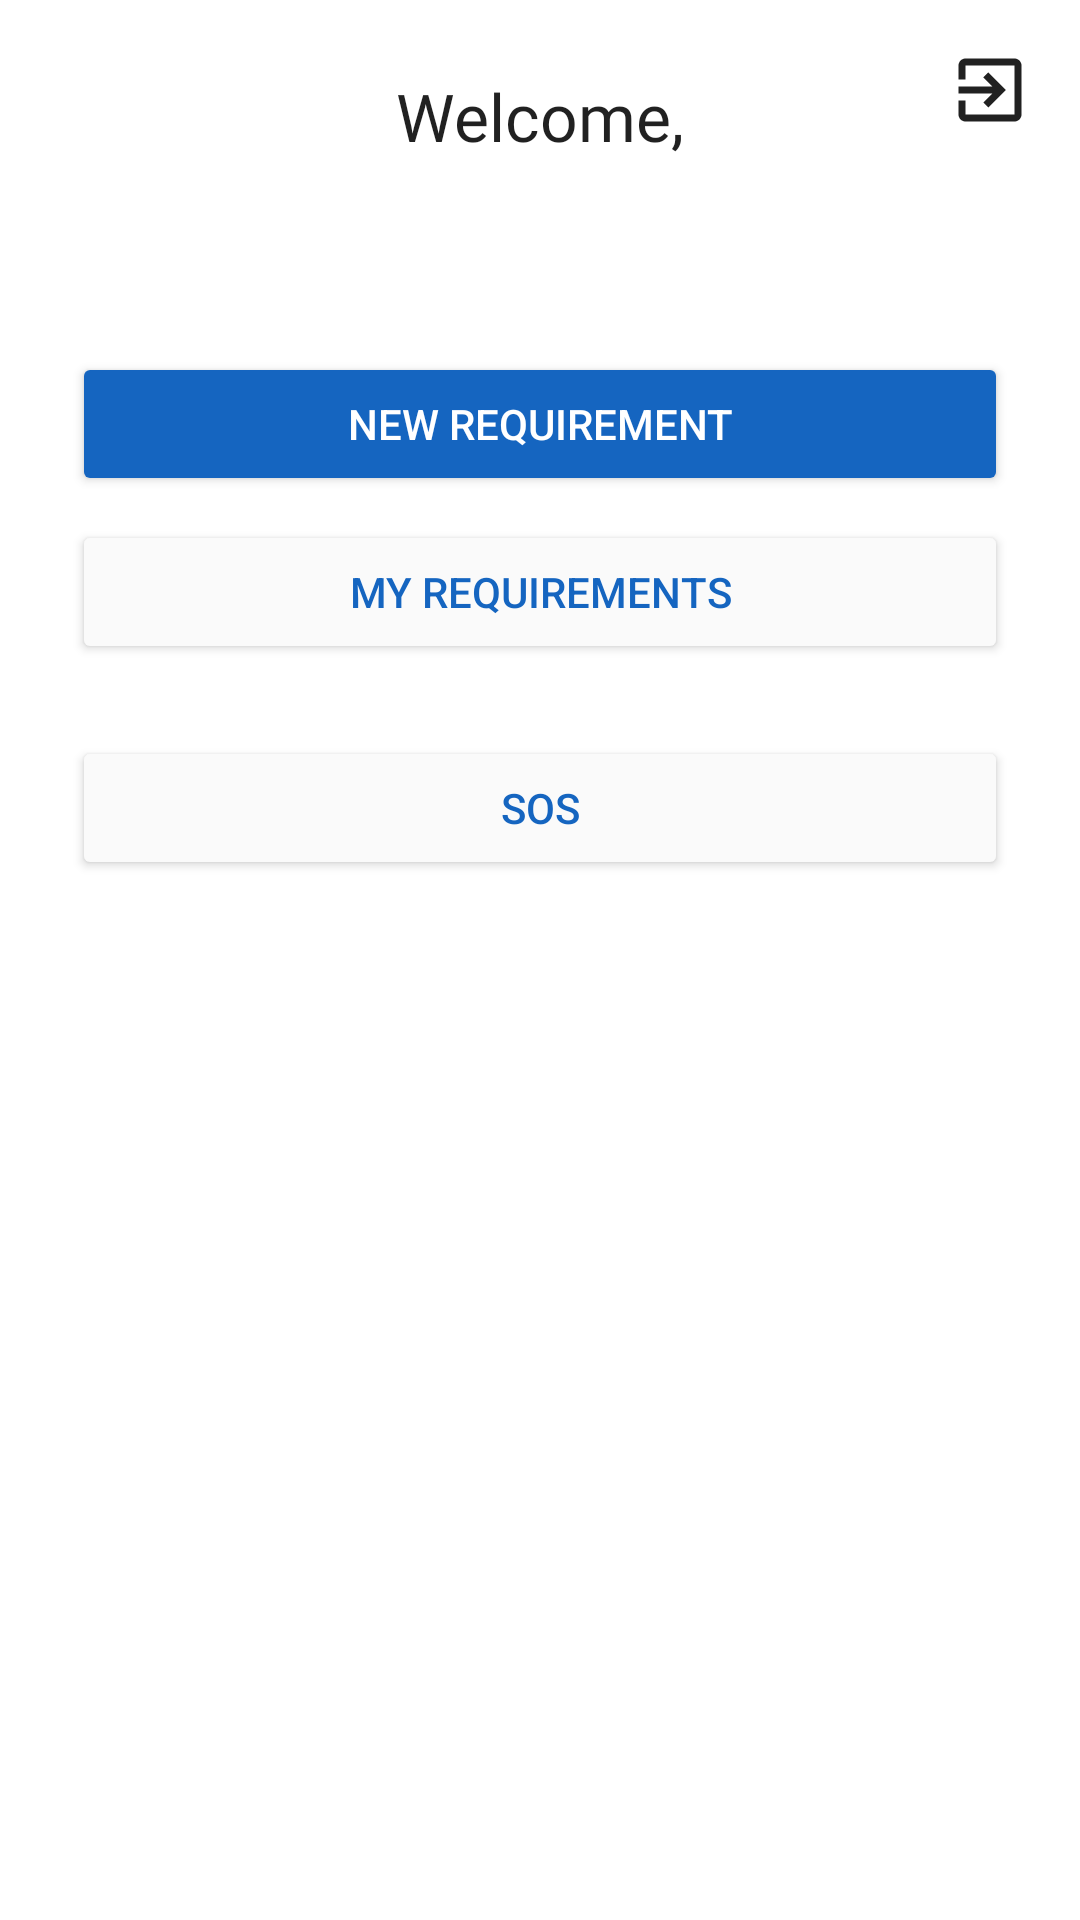

Screen size 1080w x 1920h. Icon name, then its center in pixels as (x=x, y=y):
exit to app: (x=990, y=90)
